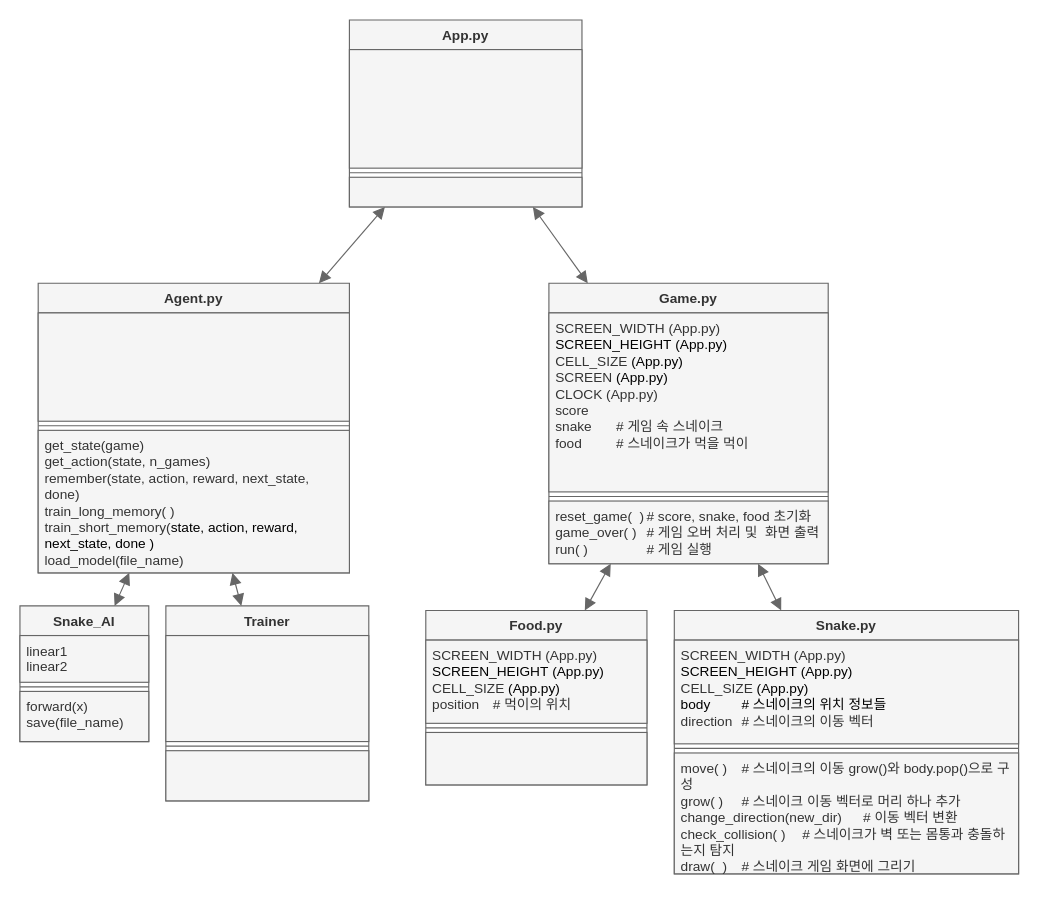
Image size: 1039x897. Some labels were removed from this diagram. Each missing label, with the centre of its shape:
"lr gamma model optimizer criterion" belongs at [267,688].
"n_games # 게임 성공 횟수 epsilon # 엡실론 계수 gamma # 할인율 memory model trainer" belongs at [193,366].
"SCREEN_WIDTH SCREEN_HEIGHT CELL_SIZE # 화면 픽셀 크기 SCREEN CLOCK GAME" belongs at [465,108].
"spawn( ) # 먹이 리스폰 draw( ) # 먹이 게임 화면에 그리기" belongs at [536,758].
"train( ) # 게임 속 AI 학습" belongs at [465,191].
"train_step(state, action, reward, next_state, done)" belongs at [267,775].
